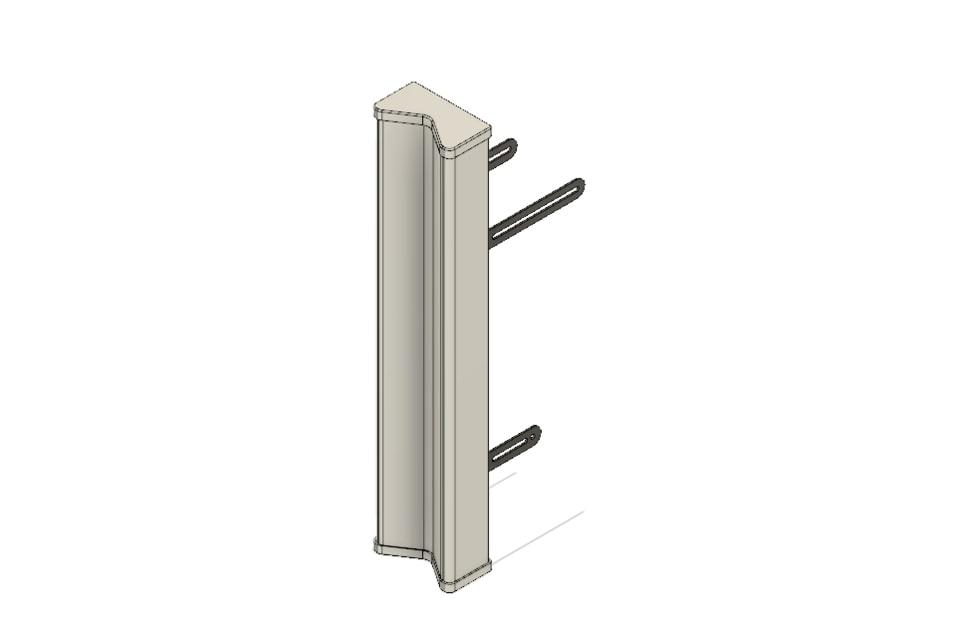sa: (354, 65, 568, 596)
